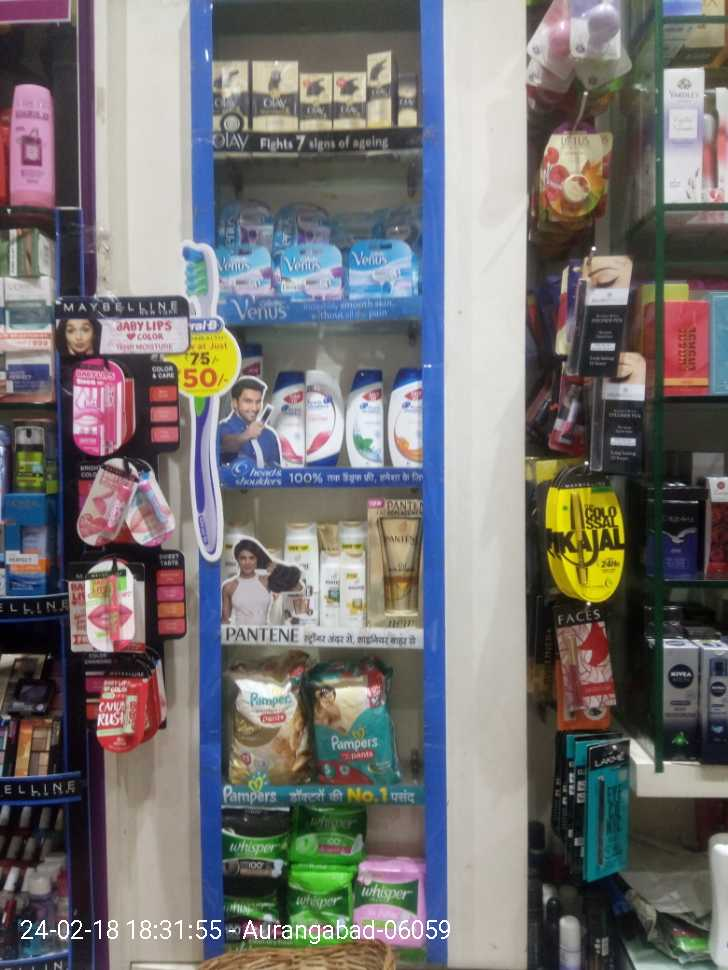venus: (349, 239, 416, 298), (279, 246, 349, 298), (211, 246, 279, 296), (216, 198, 271, 242), (272, 205, 326, 242)
